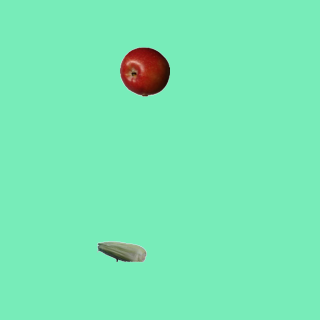Apple Braeburn: (119, 46, 169, 96)
Corn Husk: (96, 226, 146, 276)
